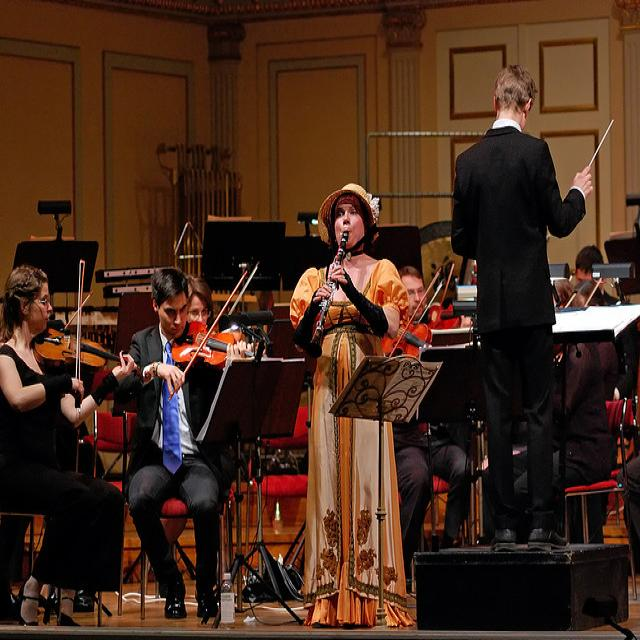clarinet: (298, 231, 351, 359)
violin: (32, 324, 154, 386), (170, 320, 258, 372), (382, 312, 436, 366), (426, 305, 474, 332)
